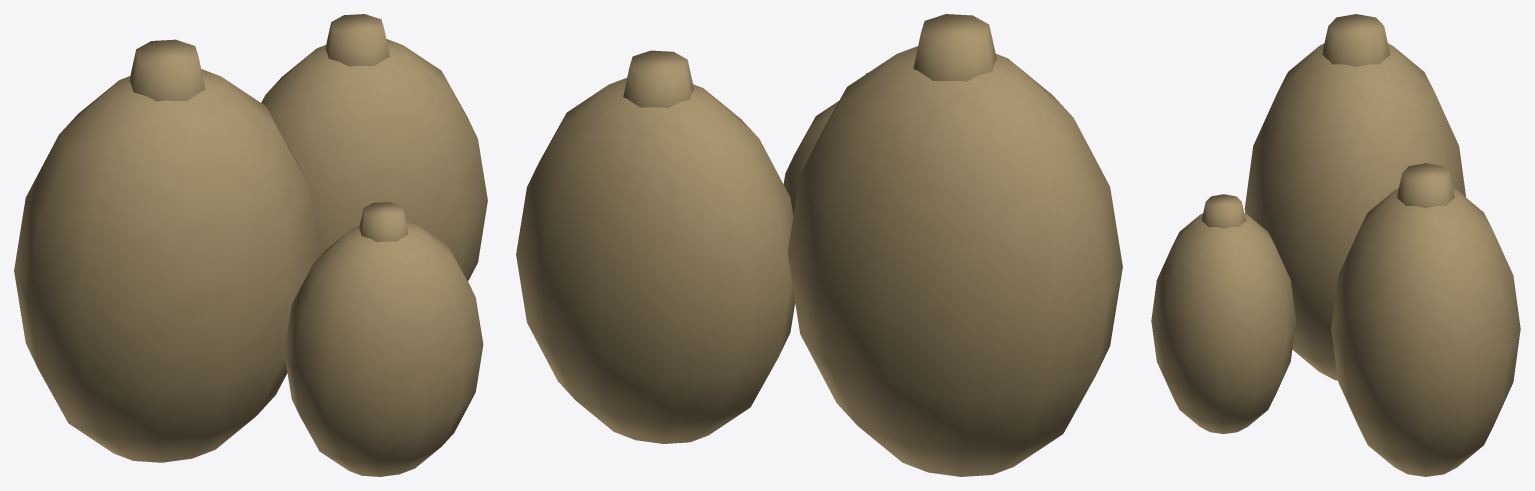
File: s07-saecke.glb
The picture shows the model from 3 angles, left to right: view 1: azimuth 30°, elevation 25°; view 2: azimuth 150°, elevation 25°; view 3: azimuth 270°, elevation 25°; orthographic projection. The views are drawn at different scales.
Visible parts, largest first — view 1: s07-saecke; view 2: s07-saecke; view 3: s07-saecke.
Part boxes in pixels (bbox=[...]): s07-saecke: bbox=[14, 14, 487, 476]; s07-saecke: bbox=[516, 14, 1122, 476]; s07-saecke: bbox=[1151, 14, 1520, 476].
Size of the model in its own units: 0.7 by 0.55 by 0.53.
1 material, 1 textured.
